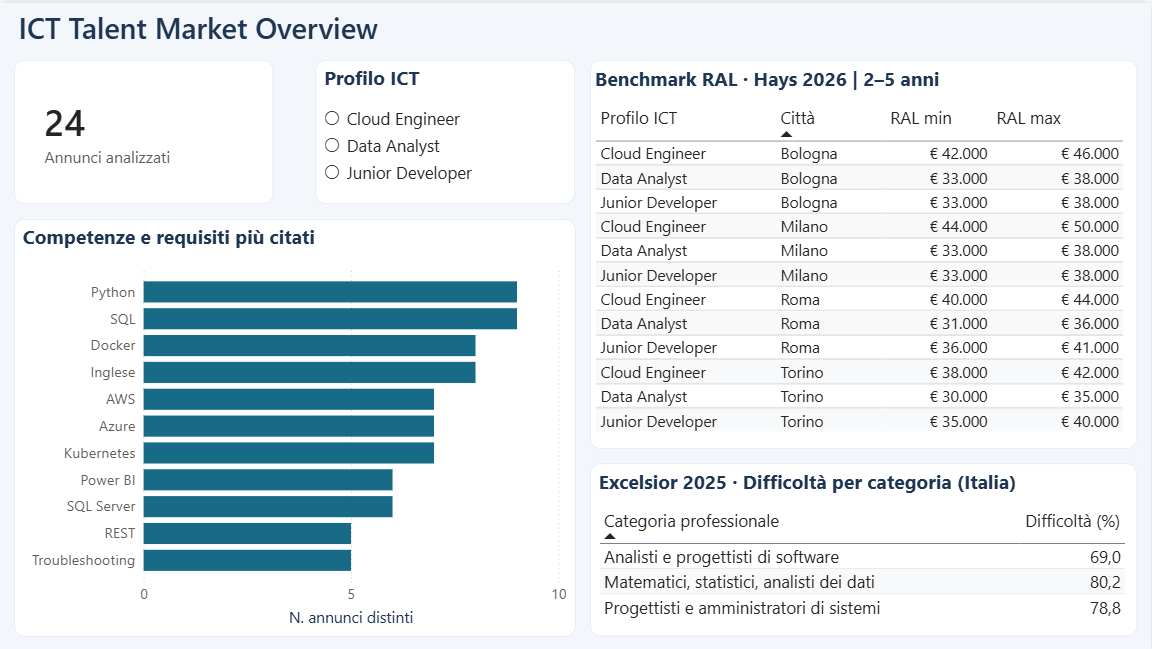

The dashboard page shown, as its layout file describes it:
{"tool":"powerbi","page":{"name":"ICT Talent Market Overview","canvas":[1280,720],"ordinal":0},"visuals":[{"type":"cardVisual","fields":{"Data":["annunci_puliti.N_annunci_distinti"]},"box":[16,64,288,160],"z":0},{"type":"clusteredBarChart","title":"Competenze e requisiti più citati","fields":{"Category":["competenze_annunci.Competenza_standard"],"Y":["competenze_annunci.N_annunci_per_competenza"]},"box":[16,240,624,464],"z":1000},{"type":"listSlicer","fields":{"Values":["mappatura_ruoli_excelsior.Profilo"]},"box":[352,64,288,160],"z":2000},{"type":"tableEx","title":"Benchmark RAL · Hays 2026 | 2–5 anni","fields":{"Values":["retribuzioni_hays_2026.Ruolo_fonte","retribuzioni_hays_2026.Citta","retribuzioni_hays_2026.RAL_min","retribuzioni_hays_2026.RAL_max"]},"box":[656,64,608,432],"z":3000},{"type":"tableEx","title":"Excelsior 2025 · Difficoltà per categoria (Italia)","fields":{"Values":["difficolta_excelsior_2025.Categoria","difficolta_excelsior_2025.Difficolta_pct"]},"box":[656,512,608,192],"z":4000},{"type":"textbox","box":[16,0,432,64],"z":6000}]}

Visuals, with their boxes in screenshot pixels (x1, y1, x2, y2), scaled from the page's 1280x720 canvas onto the 1152x649 screenshot:
cardVisual - annunci_puliti.N_annunci_distinti: bbox(14, 58, 274, 202)
"Competenze e requisiti più citati" clusteredBarChart: bbox(14, 216, 576, 635)
listSlicer - mappatura_ruoli_excelsior.Profilo: bbox(317, 58, 576, 202)
"Benchmark RAL · Hays 2026 | 2–5 anni" tableEx: bbox(590, 58, 1138, 447)
"Excelsior 2025 · Difficoltà per categoria (Italia)" tableEx: bbox(590, 462, 1138, 635)
textbox: bbox(14, 0, 403, 58)
